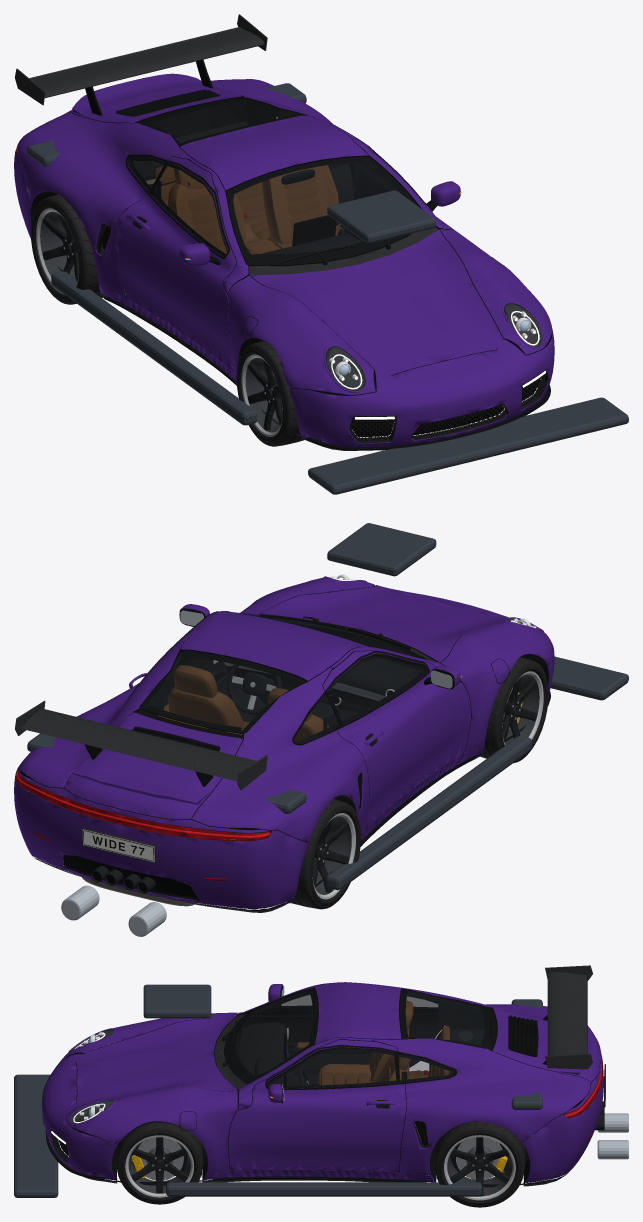
File: car_e30.glb
3 renders of one model, top to bottom at view 1: azimuth 30°, elevation 25°; view 2: azimuth 150°, elevation 25°; view 3: azimuth 270°, elevation 25°, orthographic. The views are drawn at different scales.
Visible parts, largest first — view 1: Body, Mod_Splitter, Mod_Skirt_-1, Wheel_RR, Wheel_FR, Mod_Hood, Mod_Wing; view 2: Body, Mod_Skirt_-1, Wheel_RR, Wheel_FR, Mod_Hood, Mod_Splitter, Steering_Wheel, Mod_Wing, Mod_Exhaust_1, Mod_Exhaust_-1; view 3: Body, Wheel_RL, Wheel_FL, Mod_Skirt_1, Mod_Splitter, Mod_Hood, Mod_Wing, Mod_Exhaust_1, Mod_Exhaust_-1.
Part boxes in pixels (x1=…): Body: x1=14, y1=14, x2=554, y2=450; Mod_Splitter: x1=308, y1=397, x2=628, y2=494; Mod_Skirt_-1: x1=51, y1=271, x2=257, y2=425; Wheel_RR: x1=31, y1=194, x2=105, y2=304; Wheel_FR: x1=236, y1=340, x2=305, y2=446; Mod_Hood: x1=327, y1=190, x2=436, y2=243; Mod_Wing: x1=27, y1=83, x2=306, y2=166; Body: x1=14, y1=574, x2=554, y2=912; Mod_Skirt_-1: x1=327, y1=736, x2=531, y2=889; Wheel_RR: x1=287, y1=798, x2=360, y2=909; Wheel_FR: x1=477, y1=657, x2=548, y2=763; Mod_Hood: x1=327, y1=523, x2=436, y2=576; Mod_Splitter: x1=550, y1=656, x2=628, y2=700; Steering_Wheel: x1=227, y1=664, x2=281, y2=714; Mod_Wing: x1=27, y1=733, x2=306, y2=813; Mod_Exhaust_1: x1=61, y1=885, x2=99, y2=920; Mod_Exhaust_-1: x1=128, y1=902, x2=166, y2=936; Body: x1=42, y1=965, x2=605, y2=1187; Wheel_RL: x1=434, y1=1121, x2=525, y2=1207; Wheel_FL: x1=116, y1=1122, x2=203, y2=1204; Mod_Skirt_1: x1=166, y1=1182, x2=481, y2=1196; Mod_Splitter: x1=14, y1=1074, x2=58, y2=1197; Mod_Hood: x1=143, y1=984, x2=211, y2=1018; Mod_Wing: x1=511, y1=999, x2=542, y2=1109; Mod_Exhaust_1: x1=597, y1=1140, x2=628, y2=1159; Mod_Exhaust_-1: x1=597, y1=1113, x2=628, y2=1132.
Size of the model in its own units: 2.15 by 1.33 by 4.73.
Materials: 63 (12 with a texture image).
